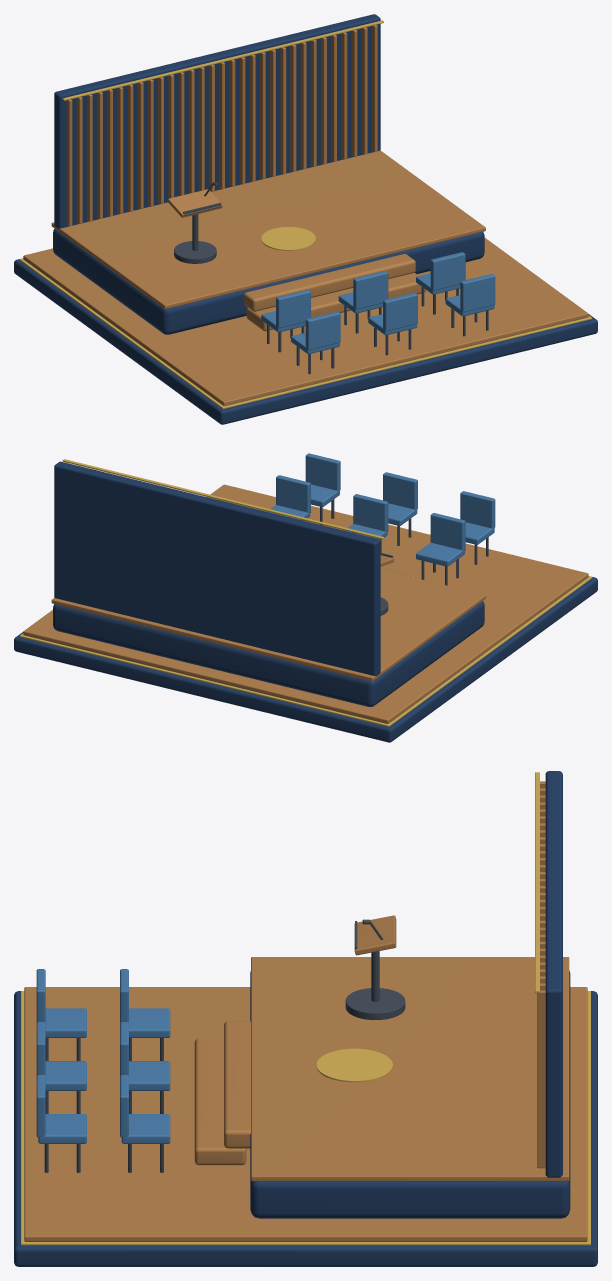
Rendered from rehearsal-stage.glb.
3 renders of one model, top to bottom at view 1: azimuth 30°, elevation 25°; view 2: azimuth 150°, elevation 25°; view 3: azimuth 270°, elevation 25°, orthographic. The views are drawn at different scales.
Visible parts, largest first — view 1: Stage timber surface, Main floor, Acoustic back wall, Presentation plinth, Stage structure, Upper broad step, Brass plinth inset, Lower broad step, Backdrop brass upper rail, Chair 2-3 back, Chair 2-1 back, Chair 1-3 back (+37 smaller); view 2: Acoustic back wall, Main floor, Stage structure, Presentation plinth, Stage timber surface, Brass plinth inset, Backdrop brass upper rail, Chair 1-1 back, Chair 1-2 back, Chair 2-1 back, Chair 2-3 back, Chair 1-3 back (+5 smaller); view 3: Stage timber surface, Main floor, Presentation plinth, Stage structure, Acoustic back wall, Brass plinth inset, Lower broad step, Upper broad step, Standing cue, Timber acoustic slat 31, Lectern foot, Chair 1-3 seat (+7 smaller).
Part boxes in pixels (box(x1,y1,x2,y2)): Stage timber surface: box(51, 150, 485, 309); Main floor: box(23, 238, 588, 406); Acoustic back wall: box(54, 14, 380, 228); Presentation plinth: box(14, 258, 597, 424); Stage structure: box(53, 228, 484, 334); Upper broad step: box(244, 254, 415, 311); Brass plinth inset: box(19, 258, 592, 408); Lower broad step: box(246, 272, 425, 331); Backdrop brass upper rail: box(62, 20, 383, 100); Chair 2-3 back: box(460, 274, 495, 312); Chair 2-1 back: box(305, 311, 340, 350); Chair 1-3 back: box(430, 252, 465, 290); Acoustic back wall: box(54, 461, 380, 676); Main floor: box(23, 484, 588, 723); Stage structure: box(53, 601, 484, 706); Presentation plinth: box(14, 577, 597, 742); Stage timber surface: box(51, 569, 485, 681); Brass plinth inset: box(19, 576, 592, 726); Backdrop brass upper rail: box(62, 459, 383, 539); Chair 1-1 back: box(430, 513, 465, 550); Chair 1-2 back: box(353, 494, 388, 531); Chair 2-1 back: box(460, 491, 495, 528); Chair 2-3 back: box(305, 453, 340, 491); Chair 1-3 back: box(276, 475, 310, 512); Stage timber surface: box(251, 957, 569, 1181); Main floor: box(24, 987, 587, 1241); Presentation plinth: box(14, 991, 597, 1266); Stage structure: box(250, 970, 570, 1218); Acoustic back wall: box(545, 771, 562, 1177); Brass plinth inset: box(21, 991, 590, 1245); Lower broad step: box(194, 1038, 246, 1165); Upper broad step: box(224, 1021, 250, 1148); Standing cue: box(316, 1048, 392, 1082); Timber acoustic slat 31: box(537, 990, 545, 1168); Lectern foot: box(345, 988, 405, 1019); Chair 1-3 seat: box(121, 1114, 170, 1143).
Size of the model in its own units: 8.8 by 4.11 by 8.4.
